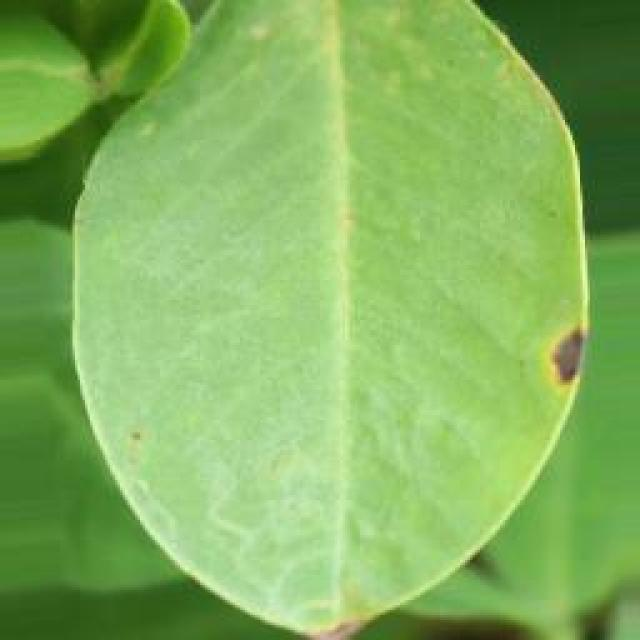Early_leaf_spot: (513, 293, 594, 411)
